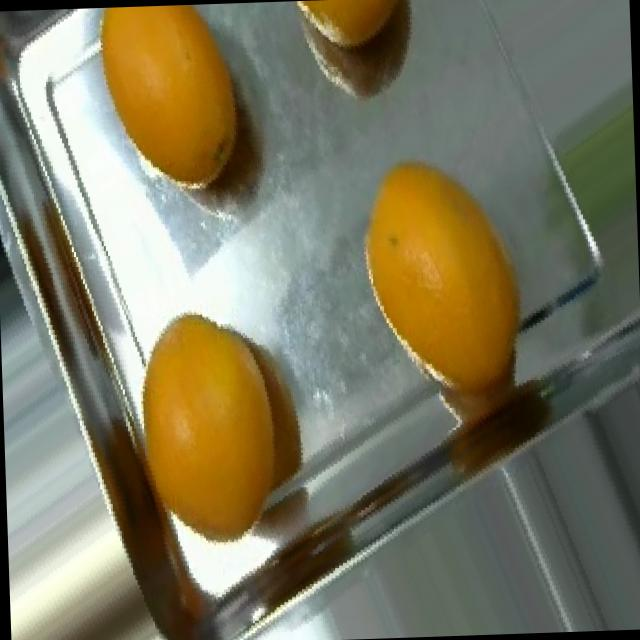Fruit: (65, 2, 268, 215), (271, 0, 437, 123)
